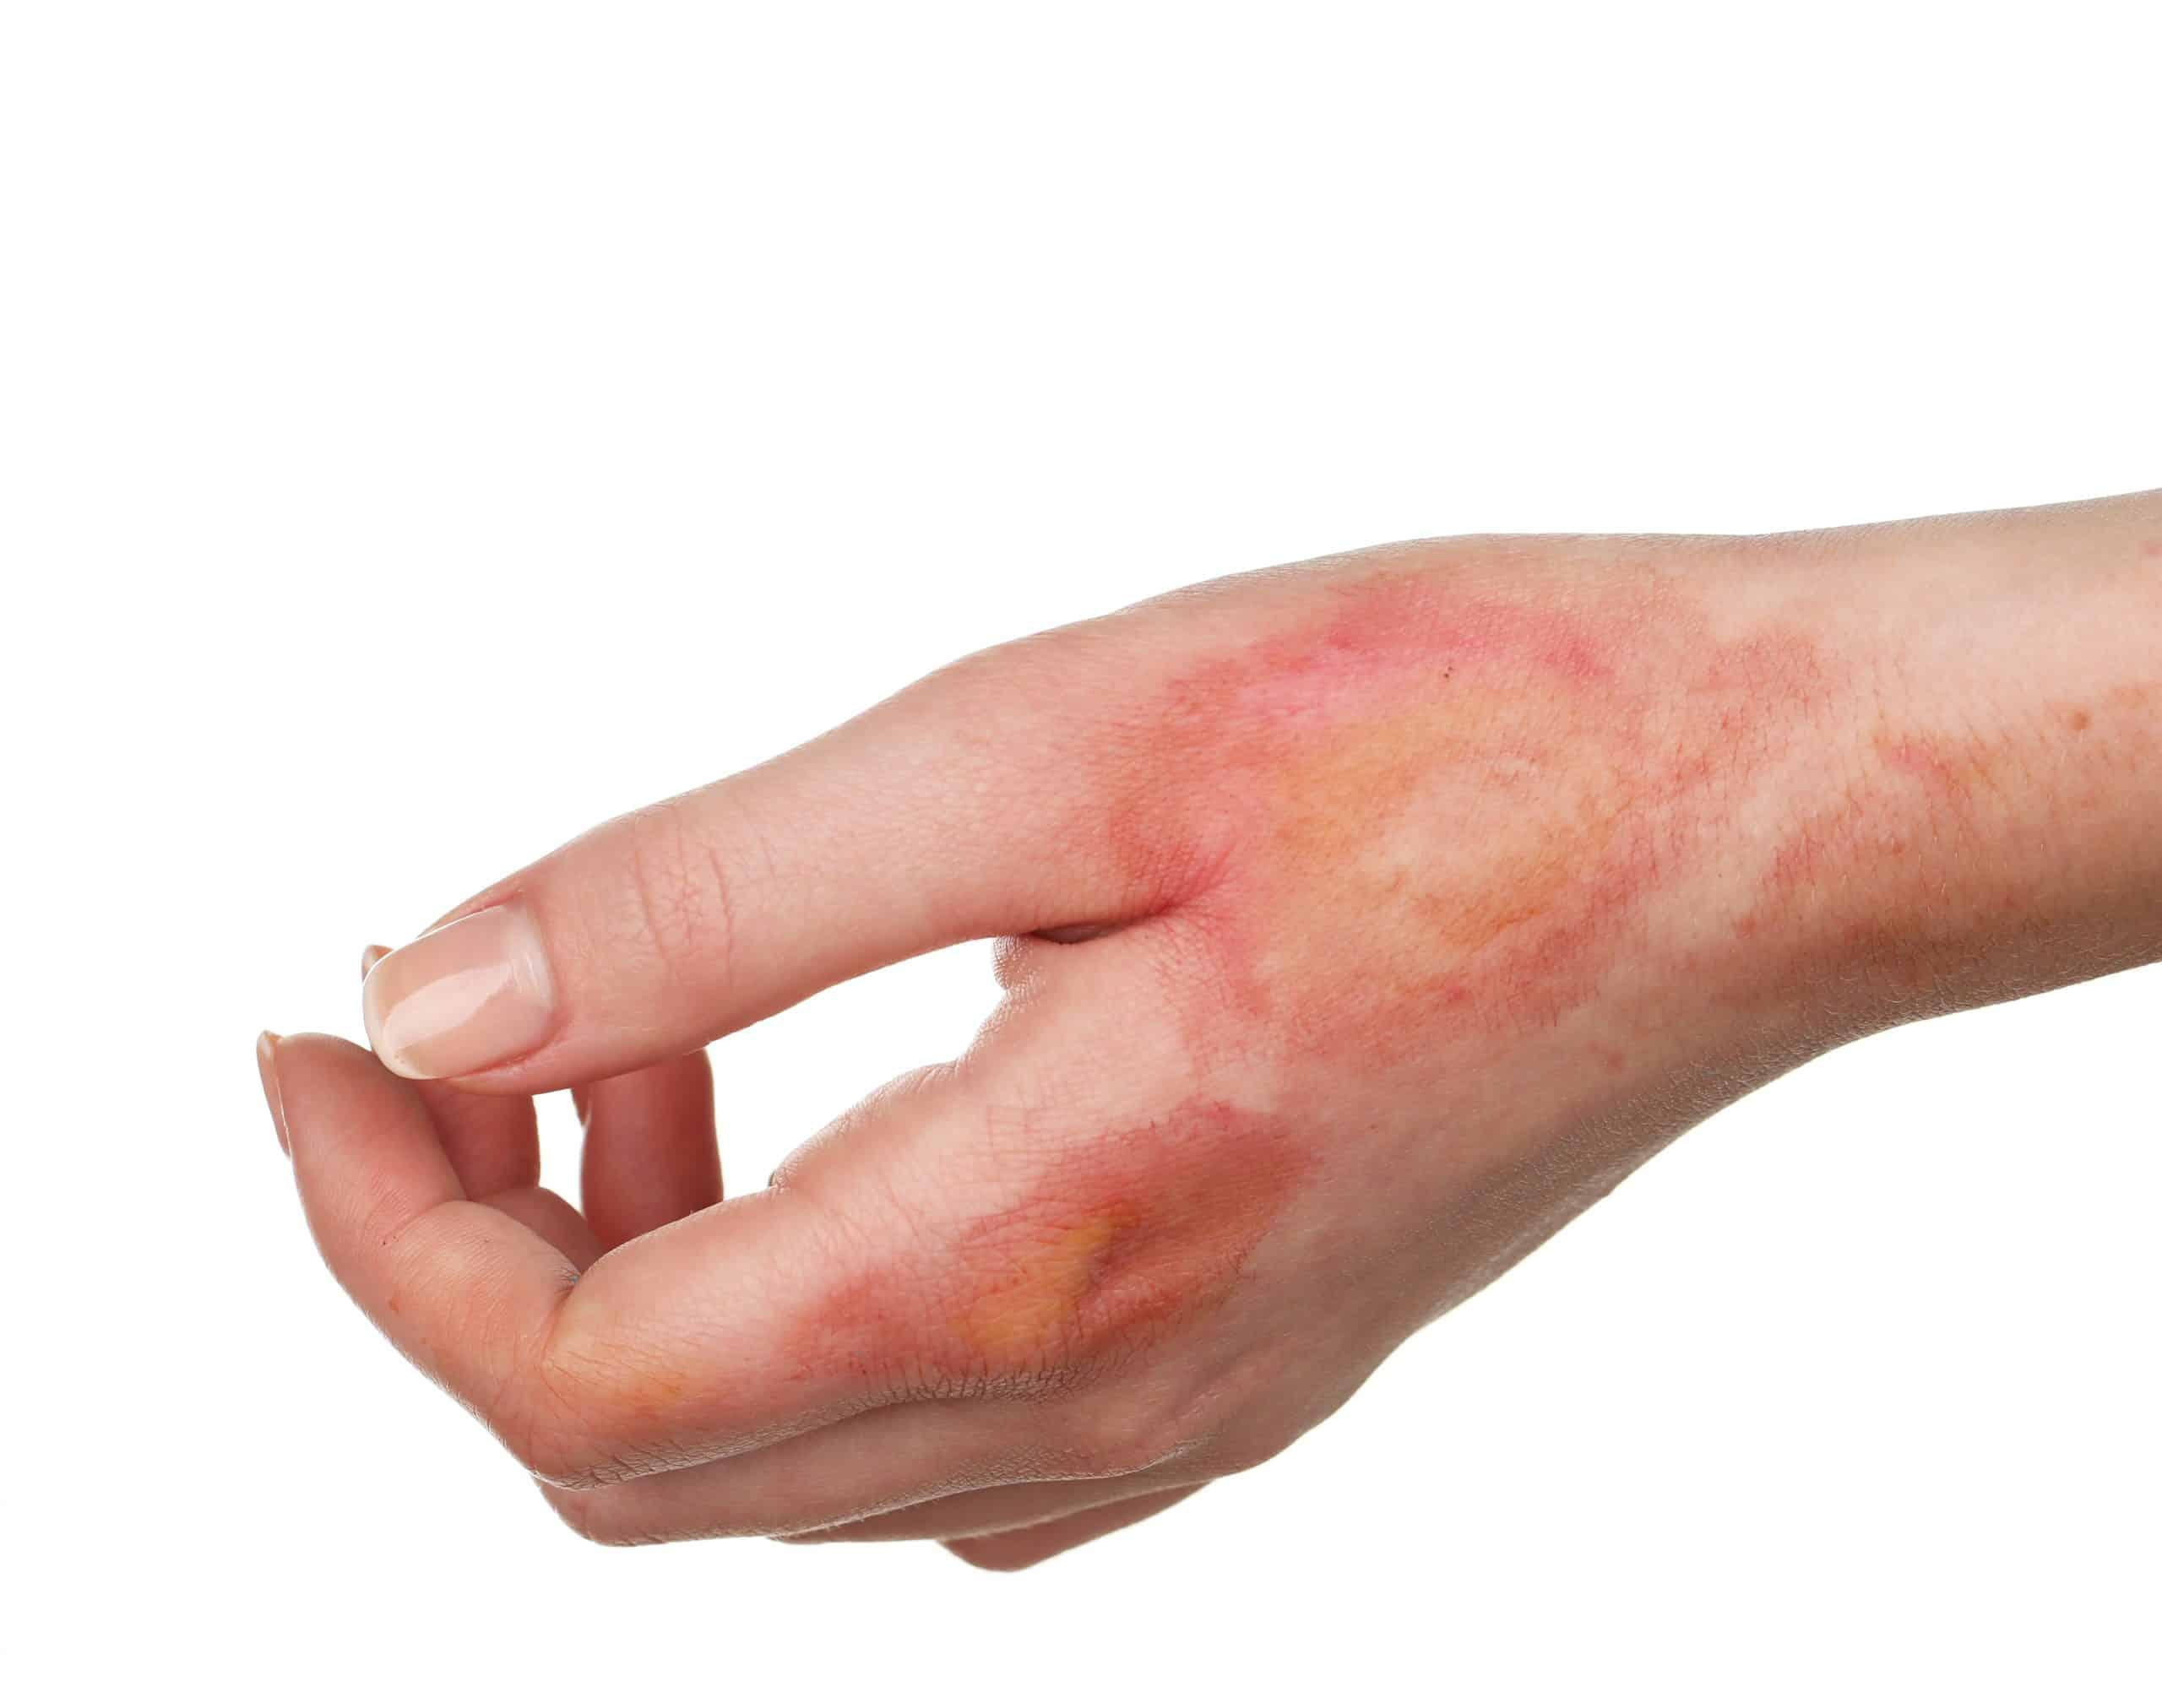burned-skin: (1035, 672, 2027, 1026), (612, 1082, 1418, 1322)
